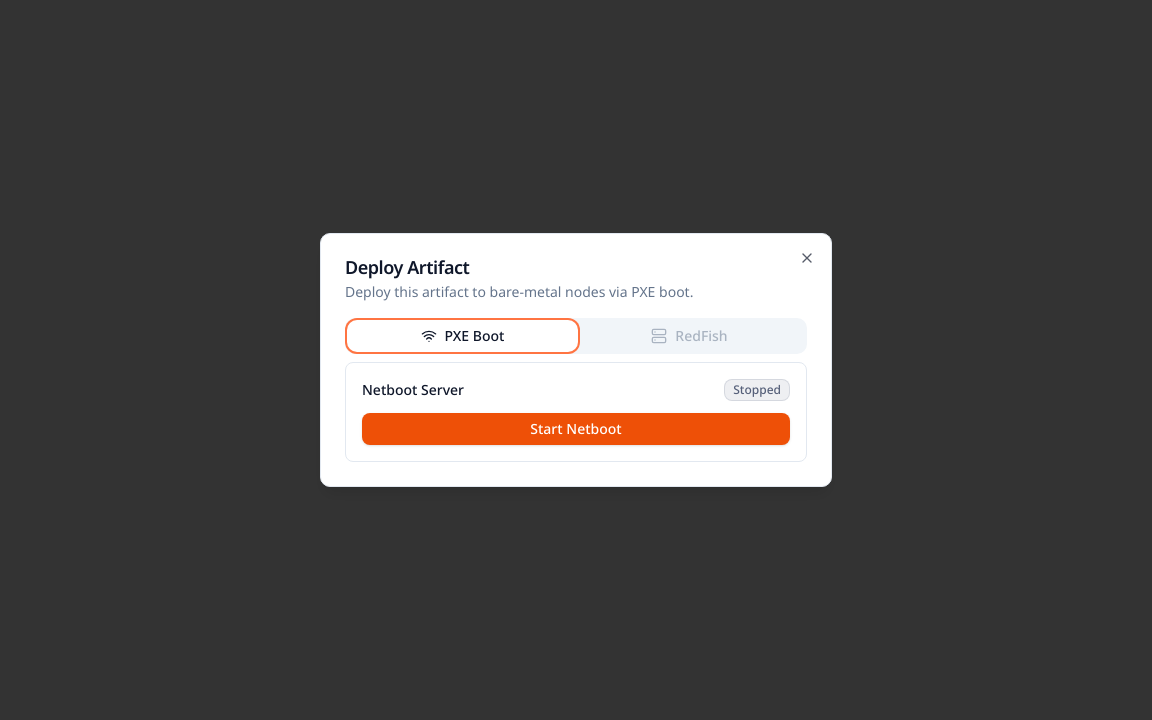
Test: DeployDialog methods › clears the netboot error when the operator tries again
What coordinates should you click on to do the following:
click the button "Start Netboot"
I would click on:
 (576, 429)
Its box is [362,413,790,445].
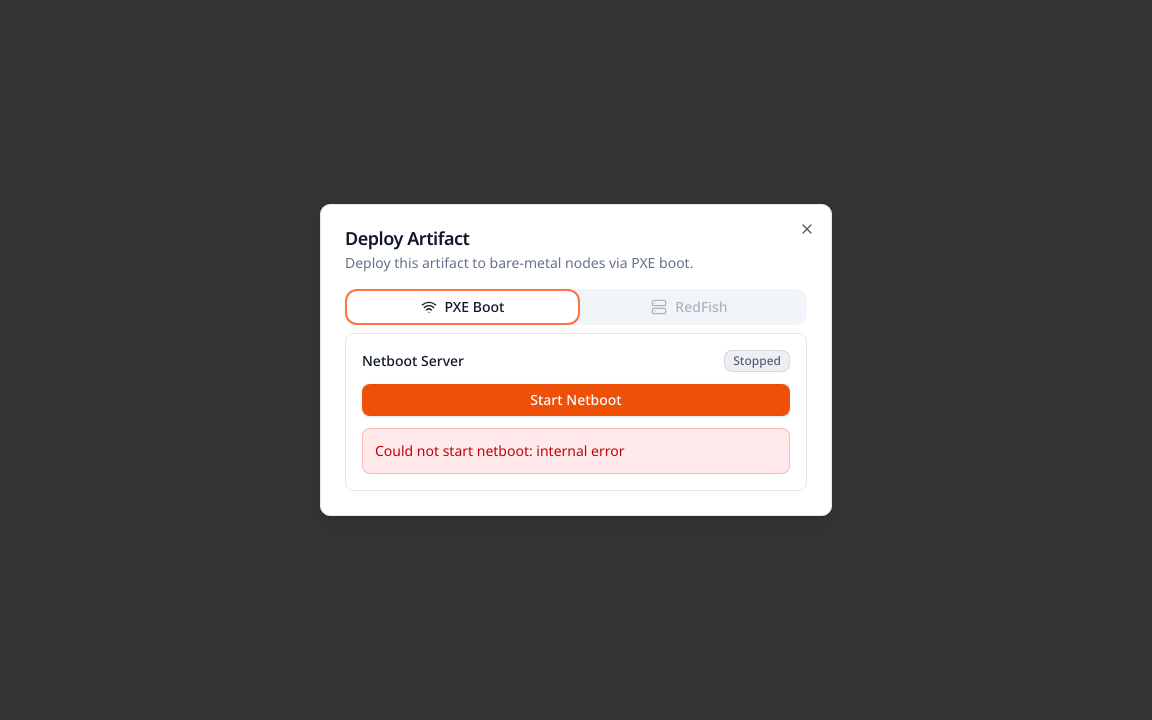
Expected: the text "Could not start netboot: internal error" is shown, [362,428,790,474]
What coordinates should you click on to do the following:
click the button "Start Netboot"
I would click on:
 (576, 400)
Its box is [362,384,790,416].
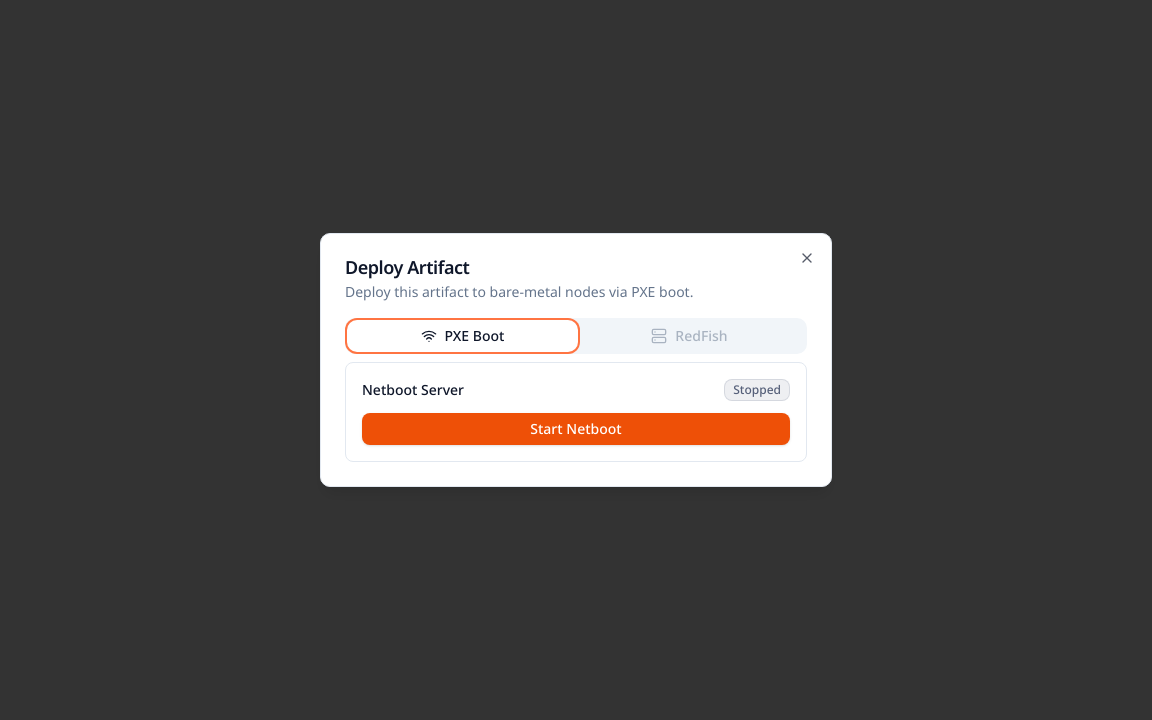
Expected: the text "Could not start netboot: internal error" is gone
